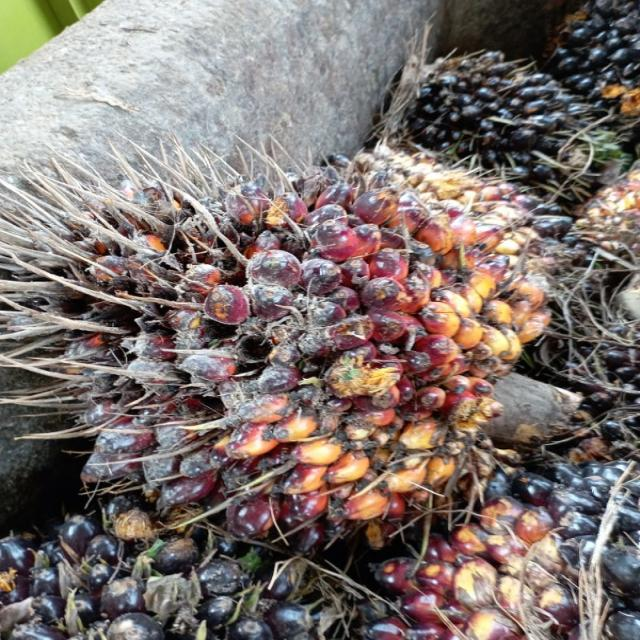fraksi 00: (402, 39, 594, 194)
fraksi 1: (24, 154, 555, 555)
